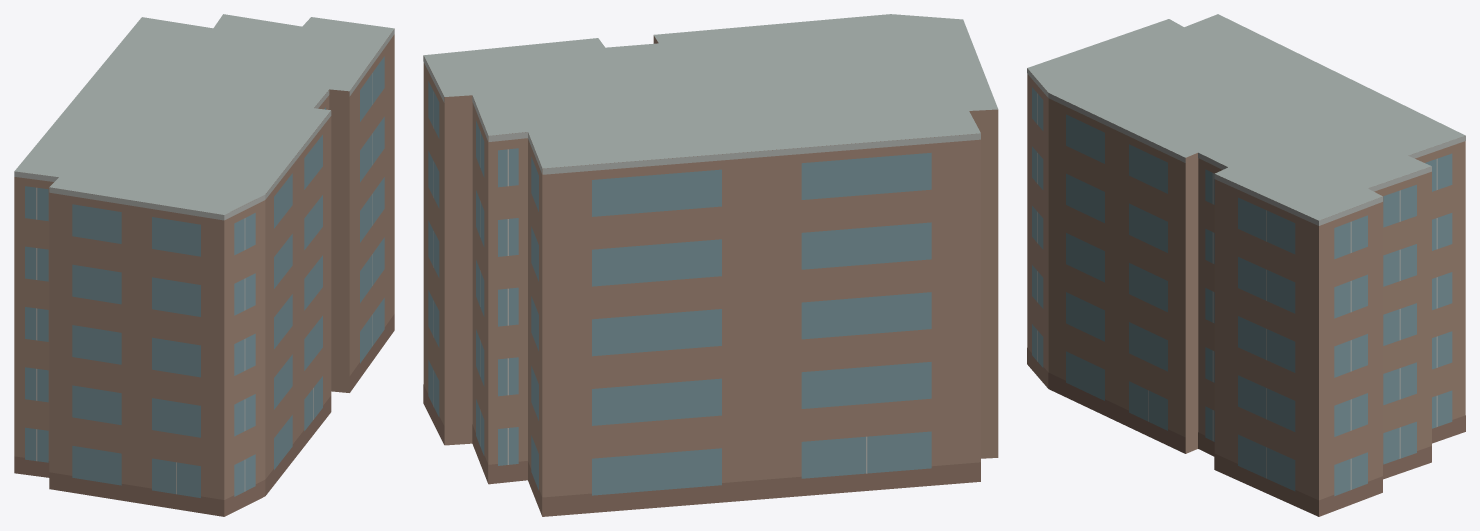
Rendered from survey-upis-32822566.glb.
The picture shows the model from 3 angles, left to right: view 1: azimuth 30°, elevation 25°; view 2: azimuth 150°, elevation 25°; view 3: azimuth 270°, elevation 25°; orthographic projection. The views are drawn at different scales.
Visible parts, largest first — view 1: survey-upis-32822566.tmp; view 2: survey-upis-32822566.tmp; view 3: survey-upis-32822566.tmp.
Boxes of the visible parts, x1,y1,x2,y2 form: survey-upis-32822566.tmp: (14,14,394,516); survey-upis-32822566.tmp: (423,14,998,516); survey-upis-32822566.tmp: (1027,14,1465,516).
Bounding box in the file's own units: 20.21 × 13.5 × 18.13.
